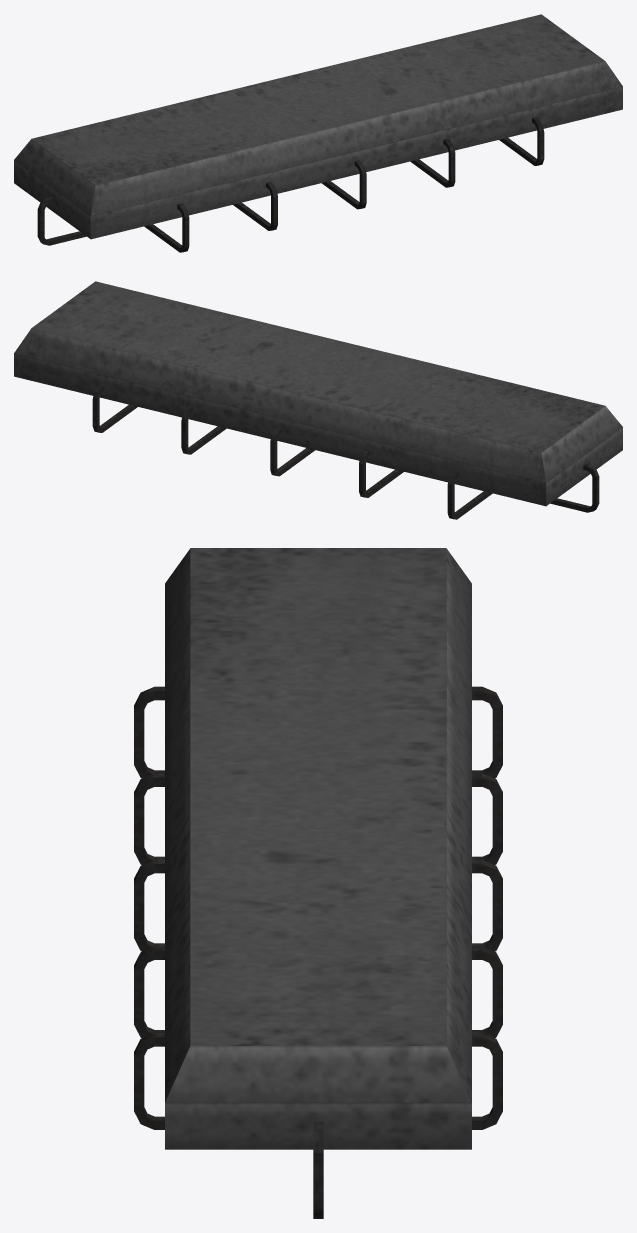
Rendered from ceiling_lamp_4_1_off.obj.
3 views of the same model, one above another, from view 1: azimuth 30°, elevation 25°; view 2: azimuth 150°, elevation 25°; view 3: azimuth 270°, elevation 25° (orthographic). The views are drawn at different scales.
Visible parts, largest first — view 1: ceiling_lamp_4_1_off, ceiling_lamp_4_1_off_protector; view 2: ceiling_lamp_4_1_off, ceiling_lamp_4_1_off_protector; view 3: ceiling_lamp_4_1_off, ceiling_lamp_4_1_off_protector.
Part boxes in pixels (x1,y1,x2,y2): ceiling_lamp_4_1_off: (14, 14, 622, 239); ceiling_lamp_4_1_off_protector: (37, 116, 544, 252); ceiling_lamp_4_1_off: (14, 281, 622, 506); ceiling_lamp_4_1_off_protector: (92, 383, 599, 519); ceiling_lamp_4_1_off: (165, 548, 471, 1149); ceiling_lamp_4_1_off_protector: (134, 686, 502, 1218).
Bounding box in the file's own units: 1.26 × 0.17 × 0.36.
